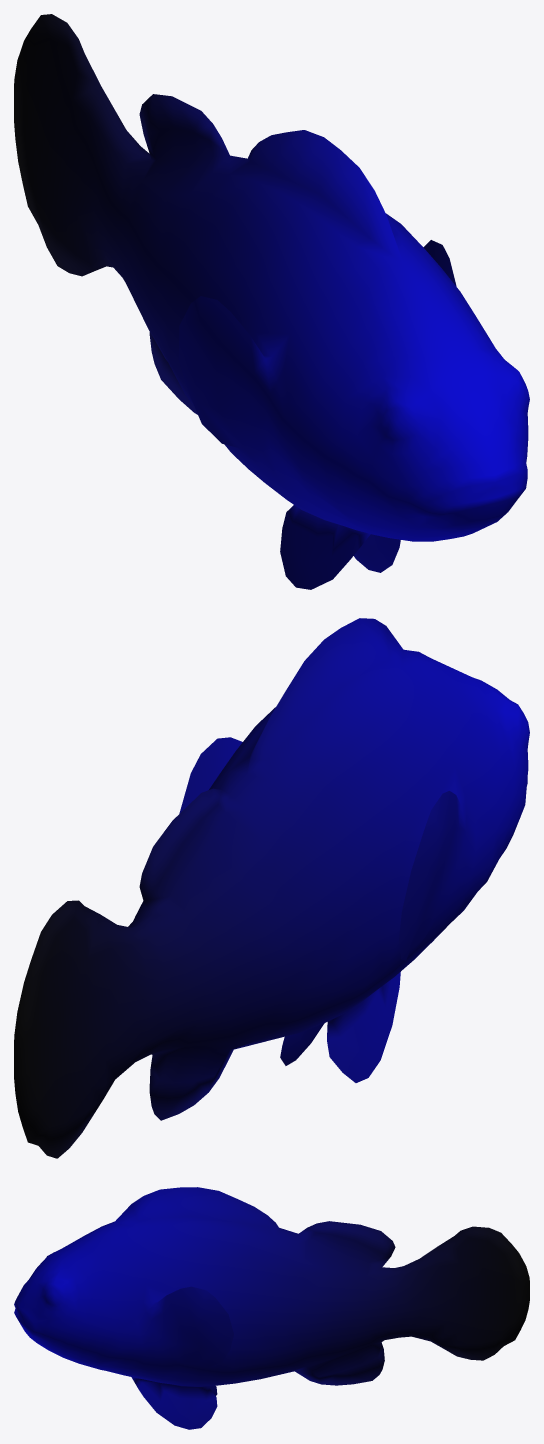
The model's file is SM_ClownFish_VertexColor_AlignZ.fbx.
The picture shows the model from 3 angles, top to bottom: view 1: azimuth 30°, elevation 25°; view 2: azimuth 150°, elevation 25°; view 3: azimuth 270°, elevation 25°; orthographic projection. The views are drawn at different scales.
Visible parts, largest first — view 1: SM_ClownFish; view 2: SM_ClownFish; view 3: SM_ClownFish.
Boxes of the visible parts, left/top/right/bottom form: SM_ClownFish: left=14, top=14, right=529, bottom=589; SM_ClownFish: left=14, top=618, right=529, bottom=1158; SM_ClownFish: left=14, top=1187, right=529, bottom=1429.
Bounding box in the file's own units: 5.74 × 9.97 × 20.
